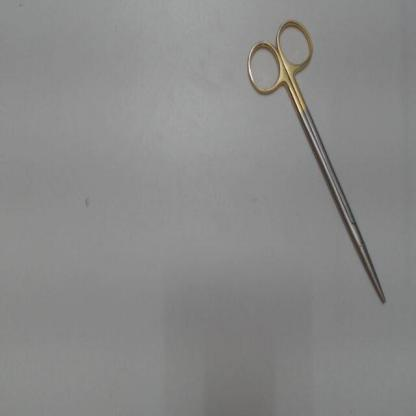7 Metzenbaum Scissors: (244, 16, 388, 310)
